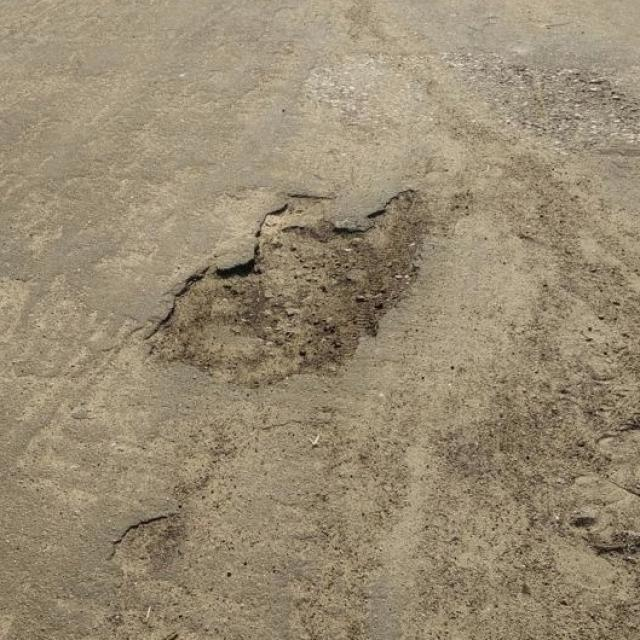road-pothole: (136, 187, 436, 391)
